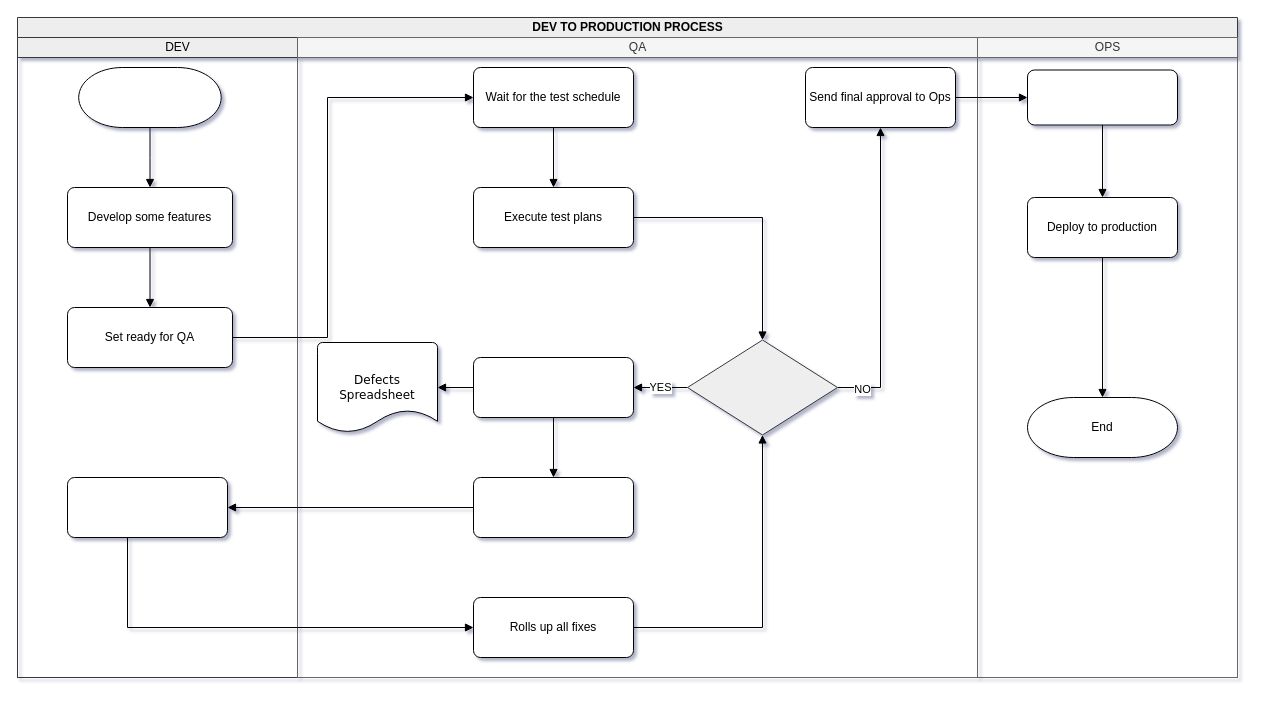
This 1261x701 diagram has some shape labels left out. Each missing label, with the centre of its shape:
"Document defects in spreadsheet" belongs at [553,387].
"Fix the defects in spreadsheet" belongs at [147,507].
"Found Defects ?" belongs at [762,387].
"Send the defects spreadsheet to Dev" belongs at [553,507].
"Start" belongs at [149,97].
"Wait for the deployment schedule" belongs at [1102,97].
